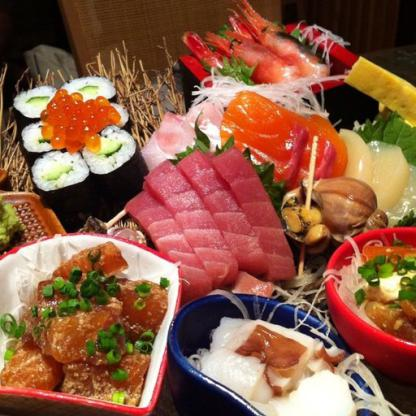tuna: (131, 147, 292, 294)
